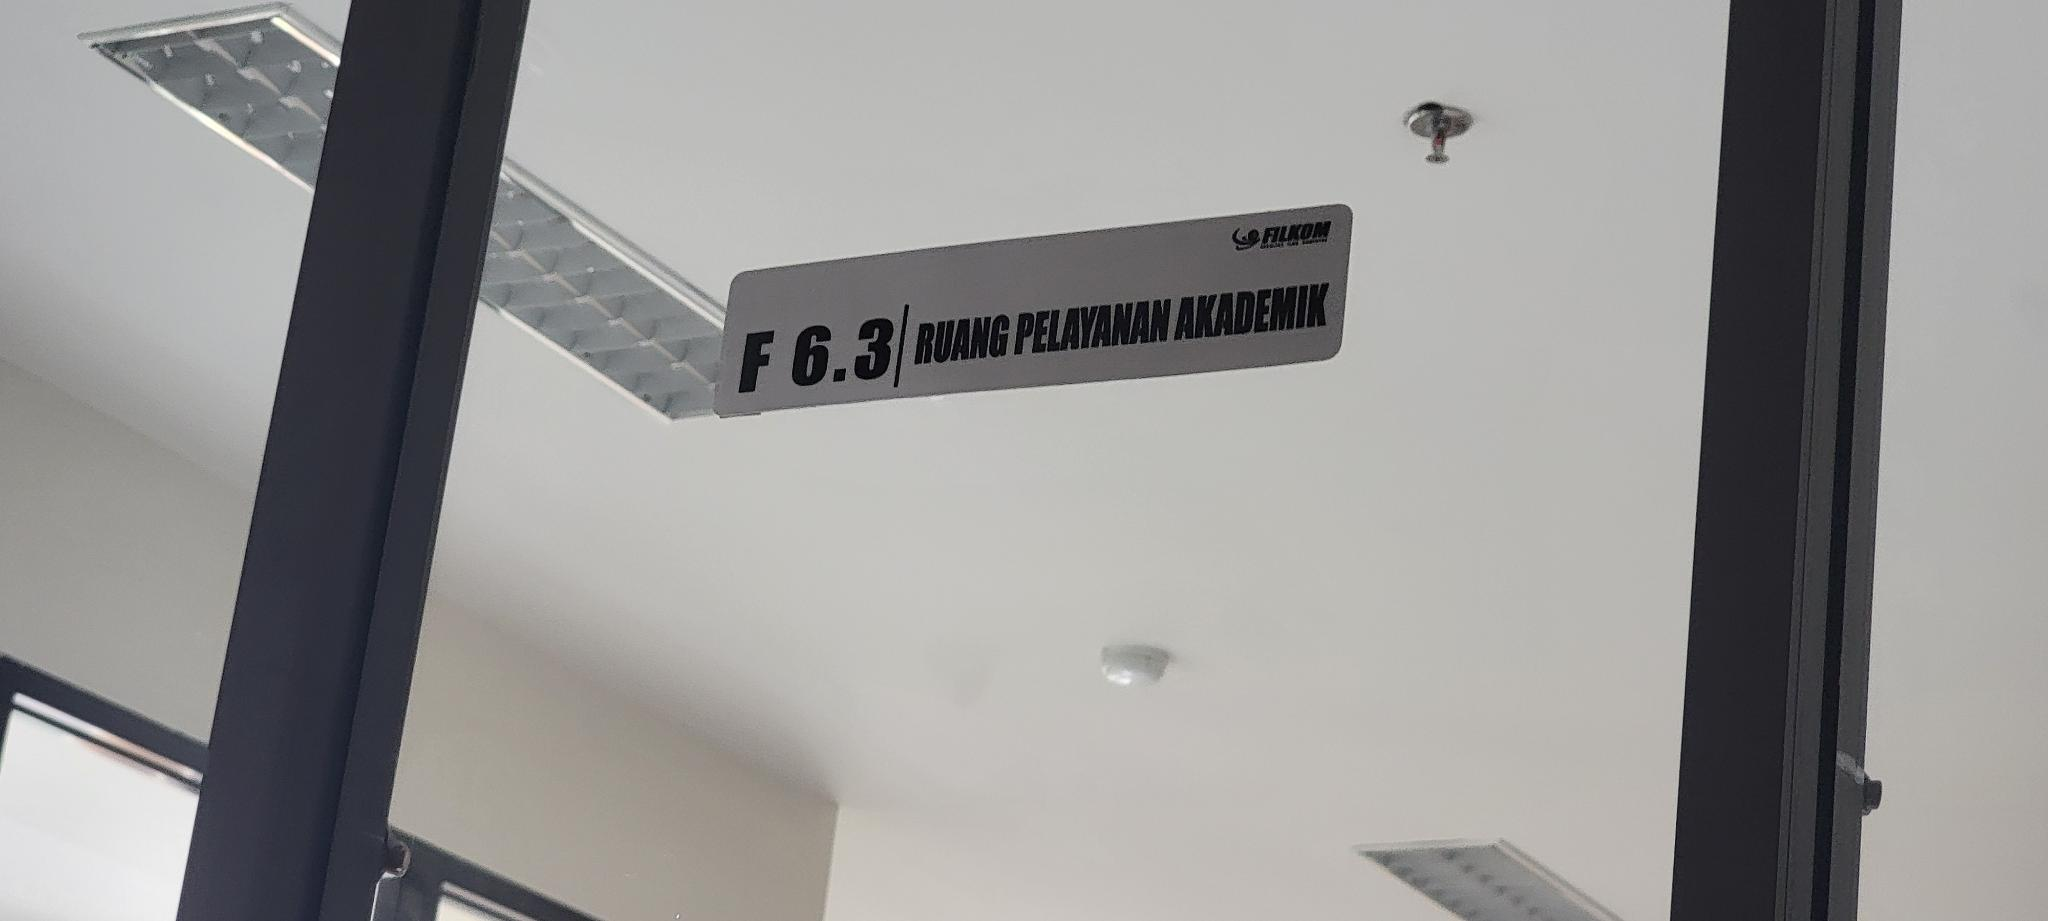plate: (717, 202, 1356, 417)
